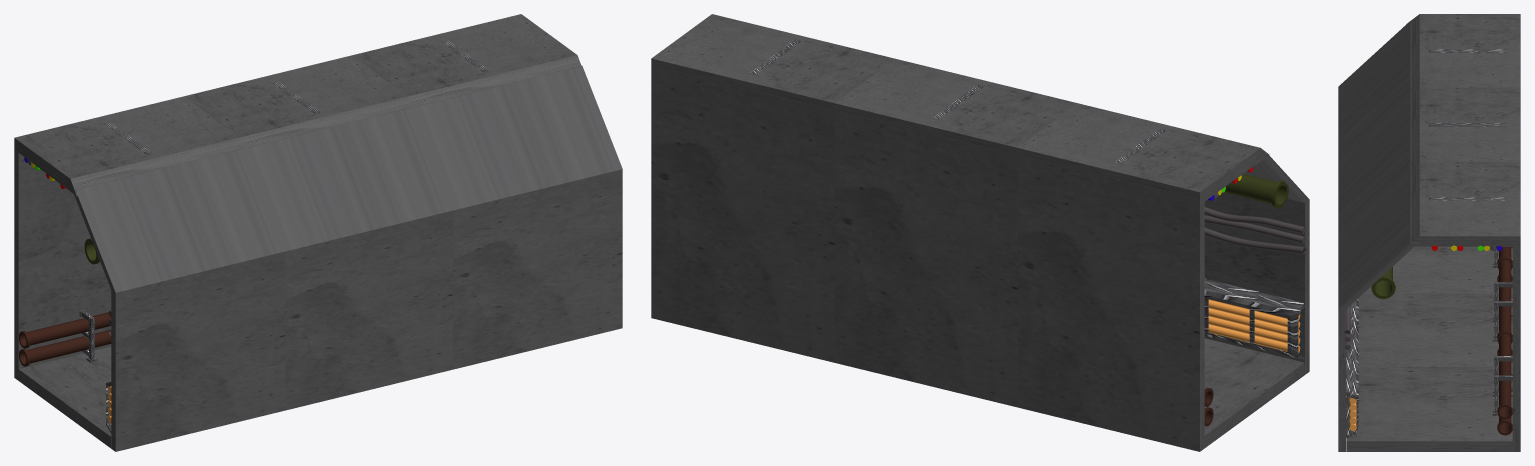
The model's file is apeirophobia_level_2.glb.
3 renders of one model, left to right at view 1: azimuth 30°, elevation 25°; view 2: azimuth 150°, elevation 25°; view 3: azimuth 270°, elevation 25°, orthographic. The views are drawn at different scales.
Size of the model in its own units: 7.22 by 3.26 by 2.5.
10 materials, 2 textured.
